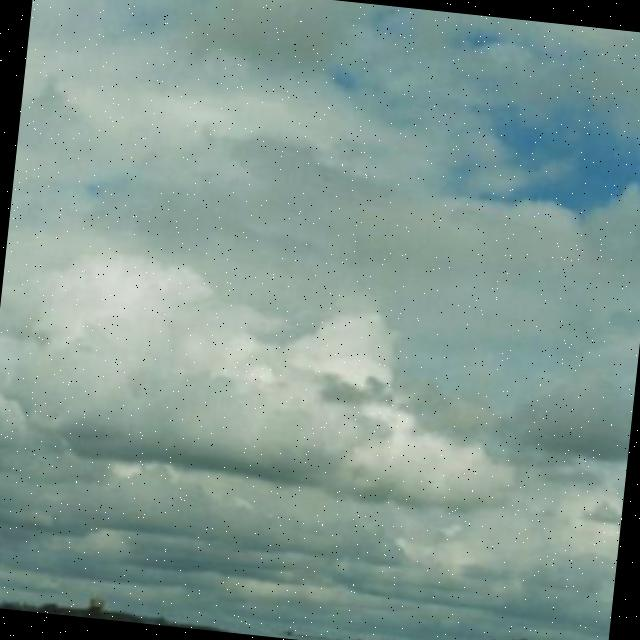Sc: (1, 48, 640, 594)
